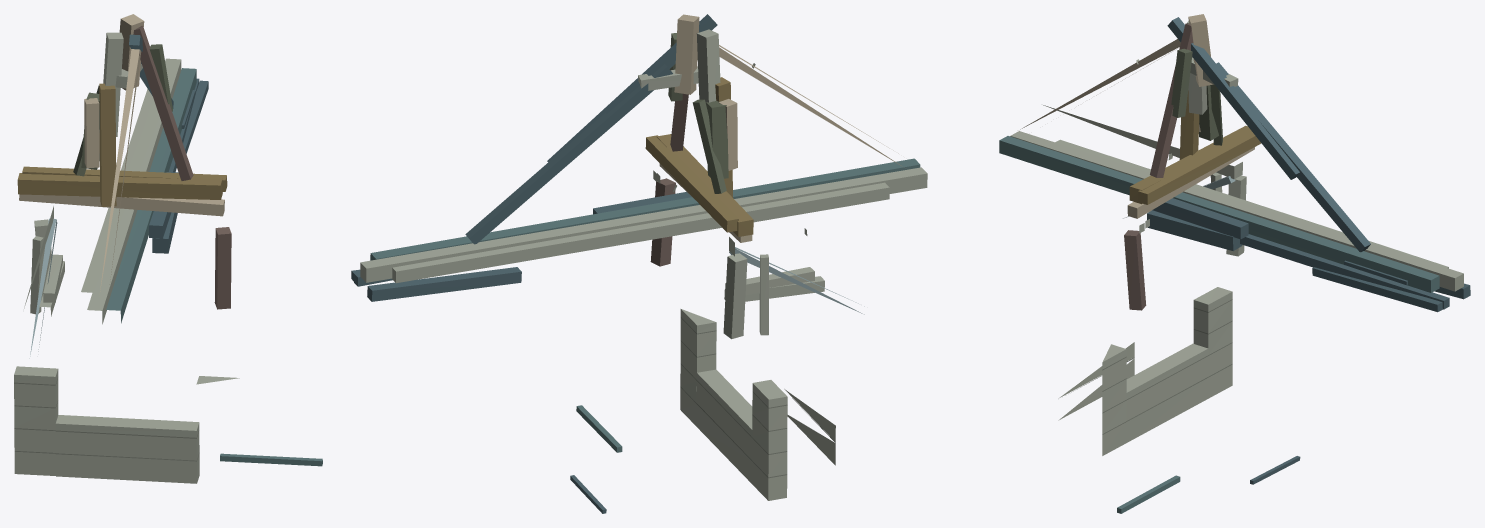
Rendered from terminal-6---132_-20.glb.
The picture shows the model from 3 angles, left to right: view 1: azimuth 30°, elevation 25°; view 2: azimuth 150°, elevation 25°; view 3: azimuth 270°, elevation 25°; orthographic projection. The views are drawn at different scales.
Visible parts, largest first — view 1: measured-industrial; view 2: measured-industrial; view 3: measured-industrial.
Part boxes in pixels (x1,y1,x2,y2): measured-industrial: (14,14,322,483); measured-industrial: (351,14,927,513); measured-industrial: (999,14,1470,513).
Size of the model in its own units: 54.69 by 59.86 by 59.64.
